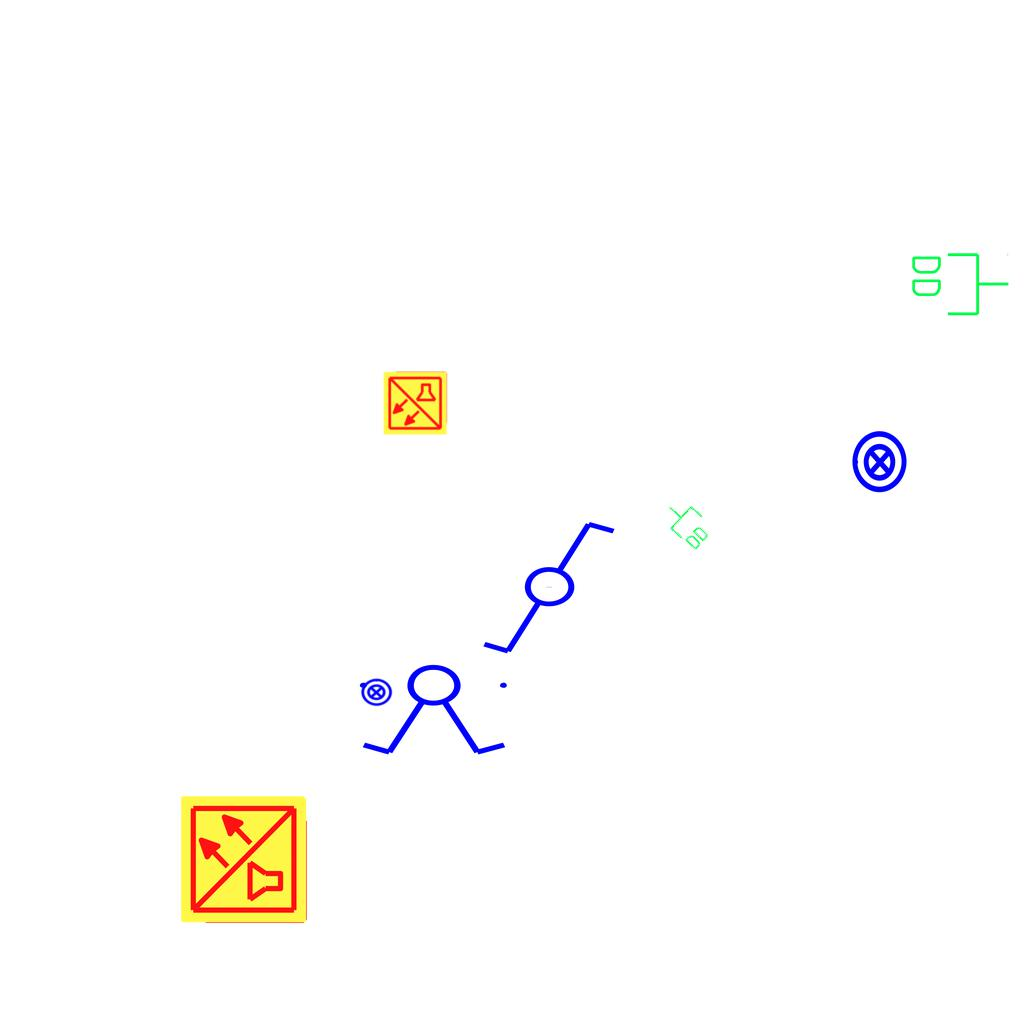Datenanschluss_zweifach: (908, 249, 1011, 318), (657, 494, 718, 554)
OKW_Multisensormelder_(Kombination_optischer_Rauch-Kahlenmonoxid_Waerme-Melder): (178, 793, 310, 925), (382, 370, 448, 436)
Serienschalter: (351, 663, 519, 759)
Taster_beleuchtet: (847, 429, 913, 495), (360, 676, 393, 709)
Wechselschalter: (479, 517, 636, 661)
